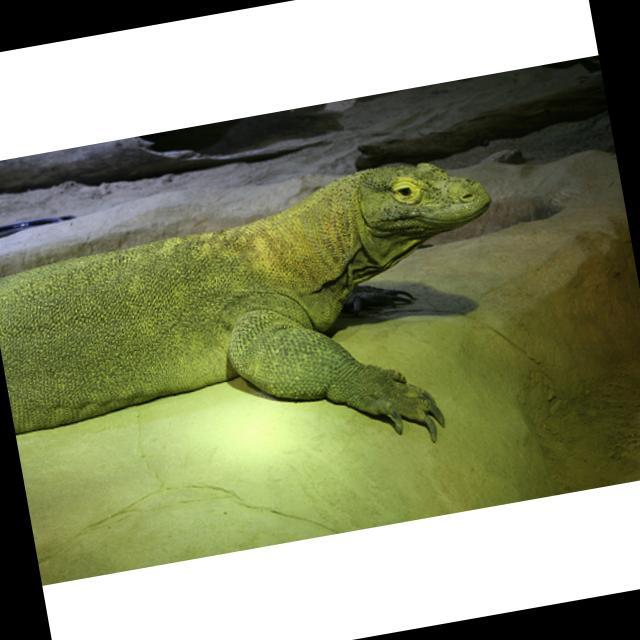KomodoDragon: (0, 146, 533, 512)
